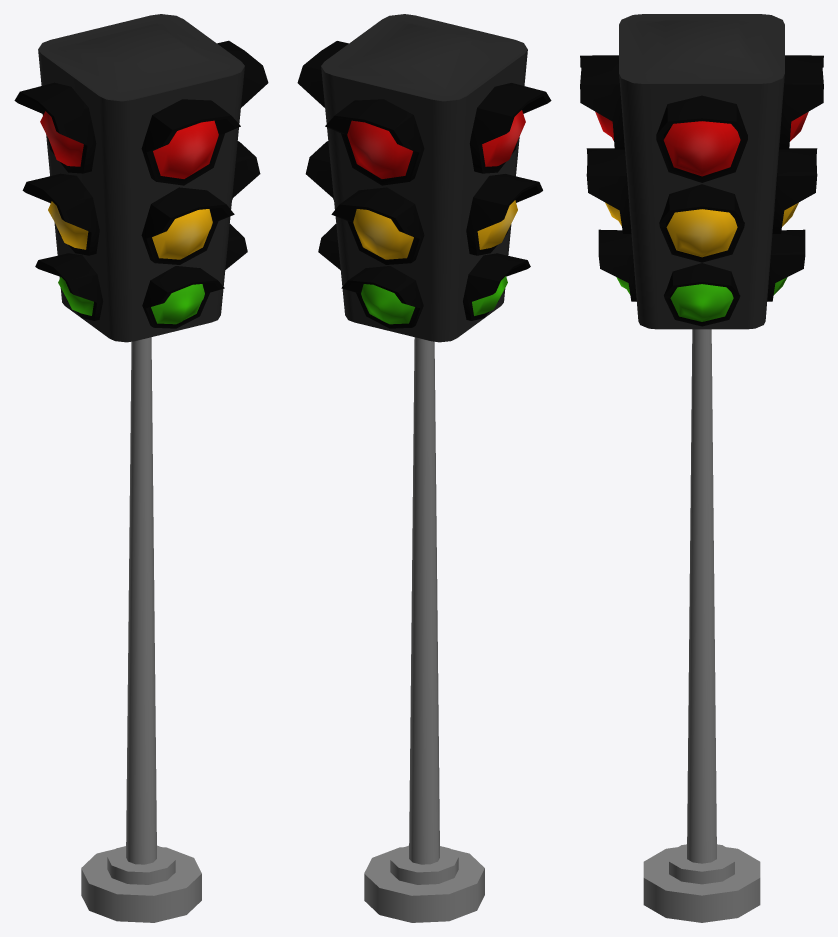
Rendered from traffic-light.fbx.
3 views of the same model, side by side, from view 1: azimuth 30°, elevation 25°; view 2: azimuth 150°, elevation 25°; view 3: azimuth 270°, elevation 25° (orthographic).
Visible parts, largest first — view 1: pCube11; view 2: pCube11; view 3: pCube11.
Part boxes in pixels (x1,y1,x2,y2): pCube11: (14,14,268,922); pCube11: (297,14,551,922); pCube11: (580,14,823,922).
Bounding box in the file's own units: 18.98 × 74.02 × 18.99.
